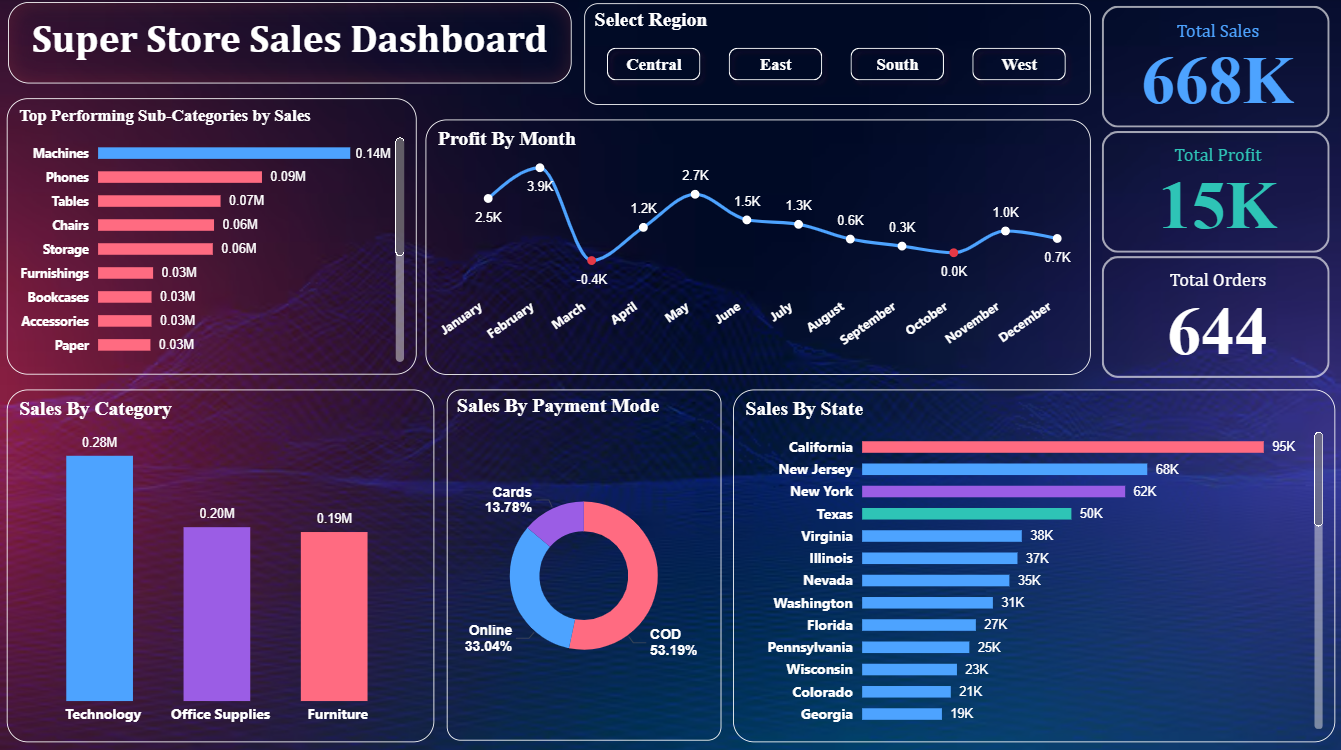

Layout of this report page (visuals, bound fields, positions):
{"tool":"powerbi","page":{"name":"Page 1","canvas":[1280,720],"ordinal":0},"visuals":[{"type":"clusteredColumnChart","title":"Sales By Category","fields":{"Category":["SuperStore_Sales_Dataset.Category"],"Y":["Sum(SuperStore_Sales_Dataset.Revenue)"]},"box":[8.3,373.8,407.1,335.7],"z":0},{"type":"barChart","title":"Top Performing Sub-Categories by Sales","fields":{"Category":["SuperStore_Sales_Dataset.Sub-Category"],"Y":["Sum(SuperStore_Sales_Dataset.Revenue)"]},"box":[8.3,96.4,390.5,263.1],"z":3000},{"type":"lineChart","title":"Profit By Month","fields":{"Category":["SuperStore_Sales_Dataset.Order Date.Variation.Date Hierarchy.Month"],"Y":["Sum(SuperStore_Sales_Dataset.Profit)"]},"box":[407.1,116.7,633.3,242.9],"z":4000},{"type":"barChart","title":"Sales By State","fields":{"Category":["SuperStore_Sales_Dataset.State"],"Y":["Sum(SuperStore_Sales_Dataset.Revenue)"]},"box":[700,373.8,573.8,335.7],"z":5000},{"type":"donutChart","title":"Sales By Payment Mode","fields":{"Category":["SuperStore_Sales_Dataset.Payment Mode"],"Y":["Sum(SuperStore_Sales_Dataset.Revenue)"]},"box":[427.4,373.8,261.9,334.5],"z":7000},{"type":"textbox","box":[9.5,4.8,536.9,77.4],"z":8000},{"type":"advancedSlicerVisual","title":"Select Region","fields":{"Values":["SuperStore_Sales_Dataset.Region"]},"box":[558.3,6,482.1,96.4],"z":9000},{"type":"cardVisual","fields":{"Data":["SuperStore_Sales_Dataset.Total Sales","SuperStore_Sales_Dataset.Total Profit","SuperStore_Sales_Dataset.Total Orders"]},"box":[1046.4,3.6,227.4,364.3],"z":10000}]}

Visuals, with their boxes in screenshot pixels (x1, y1, x2, y2), scaled from the page's 1280x720 canvas onto the 1341x750 screenshot:
"Sales By Category" clusteredColumnChart: locate(9, 389, 435, 739)
"Top Performing Sub-Categories by Sales" barChart: locate(9, 100, 418, 374)
"Profit By Month" lineChart: locate(427, 122, 1090, 375)
"Sales By State" barChart: locate(733, 389, 1335, 739)
"Sales By Payment Mode" donutChart: locate(448, 389, 722, 738)
textbox: locate(10, 5, 572, 86)
"Select Region" advancedSlicerVisual: locate(585, 6, 1090, 107)
cardVisual - SuperStore_Sales_Dataset.Total Sales x SuperStore_Sales_Dataset.Total Profit: locate(1096, 4, 1335, 383)
